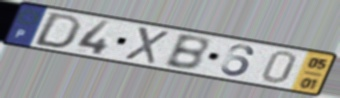0: (258, 50, 298, 85)
4: (74, 18, 112, 57)
6: (220, 44, 256, 78)
B: (161, 33, 211, 72)
D: (30, 11, 84, 50)
X: (122, 25, 171, 66)
